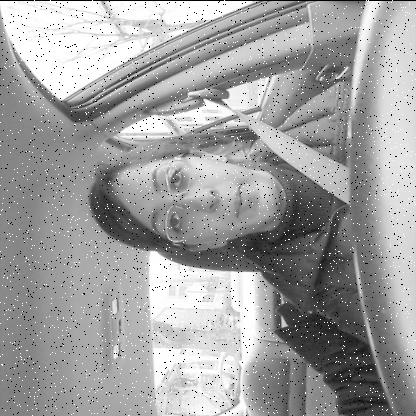seatbelt: (79, 119, 347, 263)
